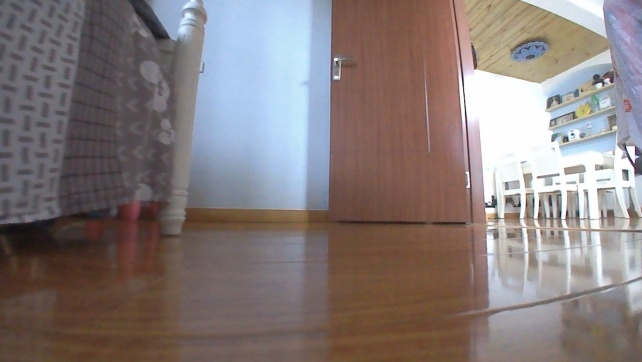bed1: (0, 0, 211, 240)
dining_table: (492, 130, 641, 220)
door_anno: (325, 0, 489, 230)
